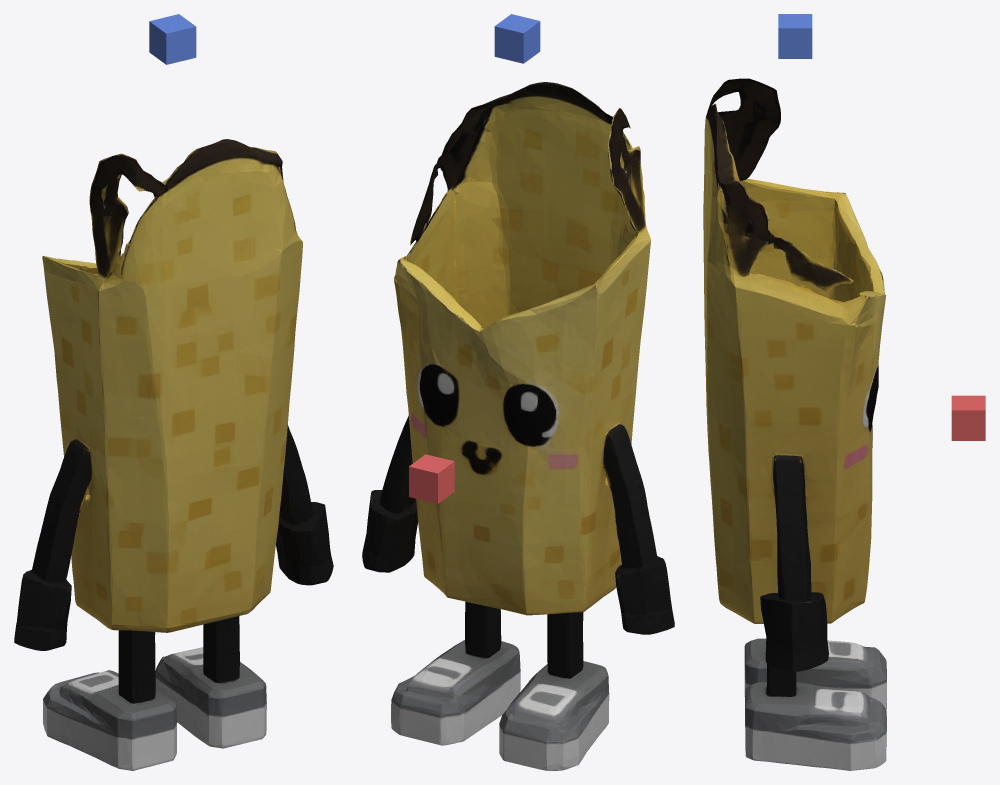
File: BurritoHotspotito.glb
3 views of the same model, side by side, from view 1: azimuth 30°, elevation 25°; view 2: azimuth 150°, elevation 25°; view 3: azimuth 270°, elevation 25° (orthographic). The views are drawn at different scales.
Visible parts, largest first — view 1: BurritoHotspotito_Body, BurritoHotspotito_Leg2, BurritoHotspotito_Leg1, BurritoHotspotito_Top; view 2: BurritoHotspotito_Body, BurritoHotspotito_Leg2, BurritoHotspotito_Leg1, BurritoHotspotito_Top, BurritoHotspotito_Front; view 3: BurritoHotspotito_Body, BurritoHotspotito_Leg1, BurritoHotspotito_Leg2, BurritoHotspotito_Front, BurritoHotspotito_Top.
Part boxes in pixels (left/top/right/bottom): BurritoHotspotito_Body: left=14, top=139, right=333, bottom=650; BurritoHotspotito_Leg2: left=43, top=630, right=176, bottom=770; BurritoHotspotito_Leg1: left=155, top=616, right=266, bottom=748; BurritoHotspotito_Top: left=149, top=14, right=196, bottom=64; BurritoHotspotito_Body: left=362, top=82, right=674, bottom=717; BurritoHotspotito_Leg2: left=499, top=612, right=609, bottom=770; BurritoHotspotito_Leg1: left=391, top=601, right=520, bottom=745; BurritoHotspotito_Top: left=494, top=14, right=540, bottom=63; BurritoHotspotito_Front: left=409, top=454, right=454, bottom=503; BurritoHotspotito_Body: left=703, top=78, right=886, bottom=671; BurritoHotspotito_Leg1: left=745, top=663, right=886, bottom=770; BurritoHotspotito_Leg2: left=744, top=638, right=886, bottom=709; BurritoHotspotito_Front: left=951, top=395, right=985, bottom=440; BurritoHotspotito_Top: left=778, top=14, right=812, bottom=58.
Bounding box in the file's own units: 2.68 × 5.72 × 2.08.
Materials: 1 (1 with a texture image).
